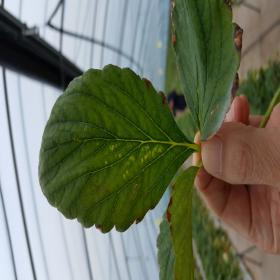Angular Leafspot: (83, 124, 171, 194)
